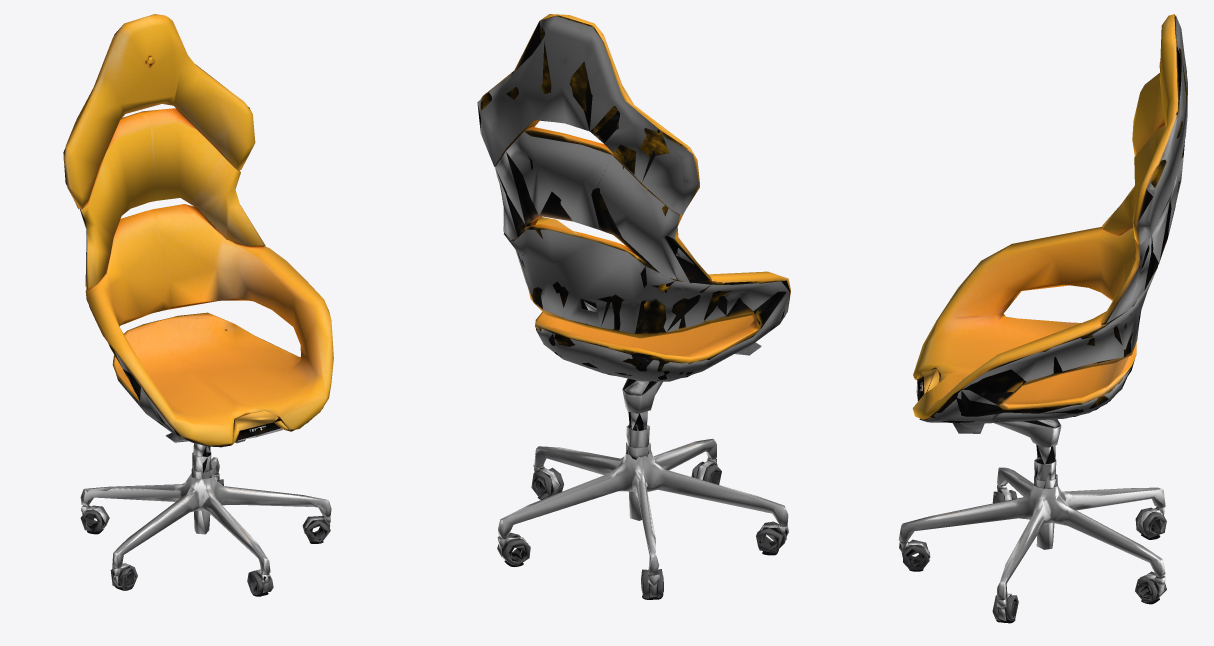
The model's file is raw_model.obj.
3 views of the same model, side by side, from view 1: azimuth 30°, elevation 25°; view 2: azimuth 150°, elevation 25°; view 3: azimuth 270°, elevation 25° (orthographic). The views are drawn at different scales.
Parts seen in each view (by area): view 1: raw_model_simplified; view 2: raw_model_simplified; view 3: raw_model_simplified.
Part boxes in pixels (box(x1,y1,x2,y2)): raw_model_simplified: box(63, 14, 333, 596); raw_model_simplified: box(477, 14, 790, 599); raw_model_simplified: box(898, 14, 1187, 623).
Size of the model in its own units: 0.6299 by 1.25 by 0.6494.
1 material, 1 textured.
